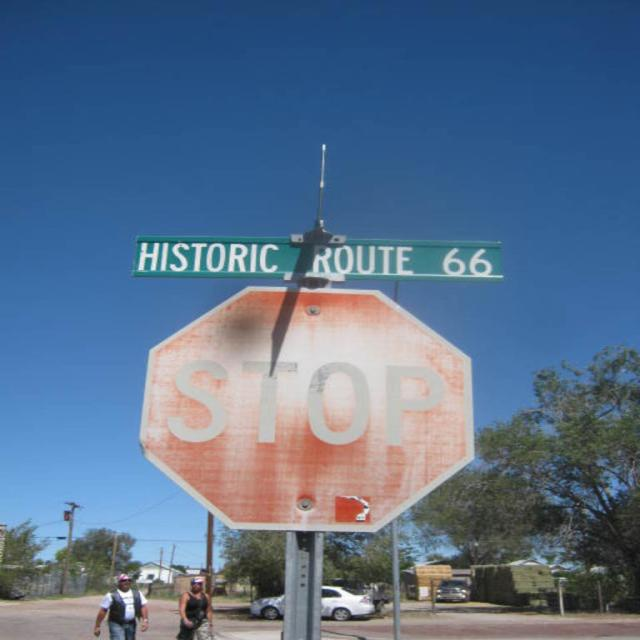Stop-sign: (138, 283, 474, 534)
